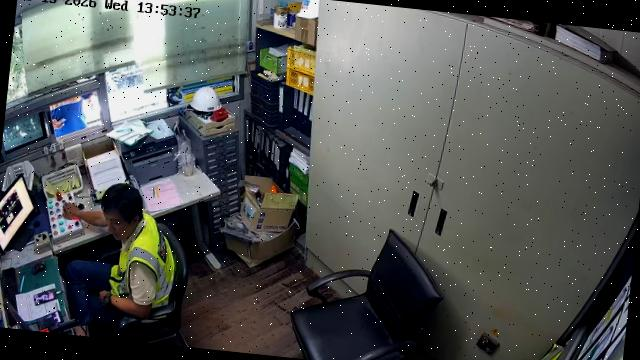Head: (102, 183, 144, 241)
People: (64, 185, 175, 327), (51, 93, 93, 136)
Phone: (36, 311, 63, 330), (33, 289, 58, 306)
